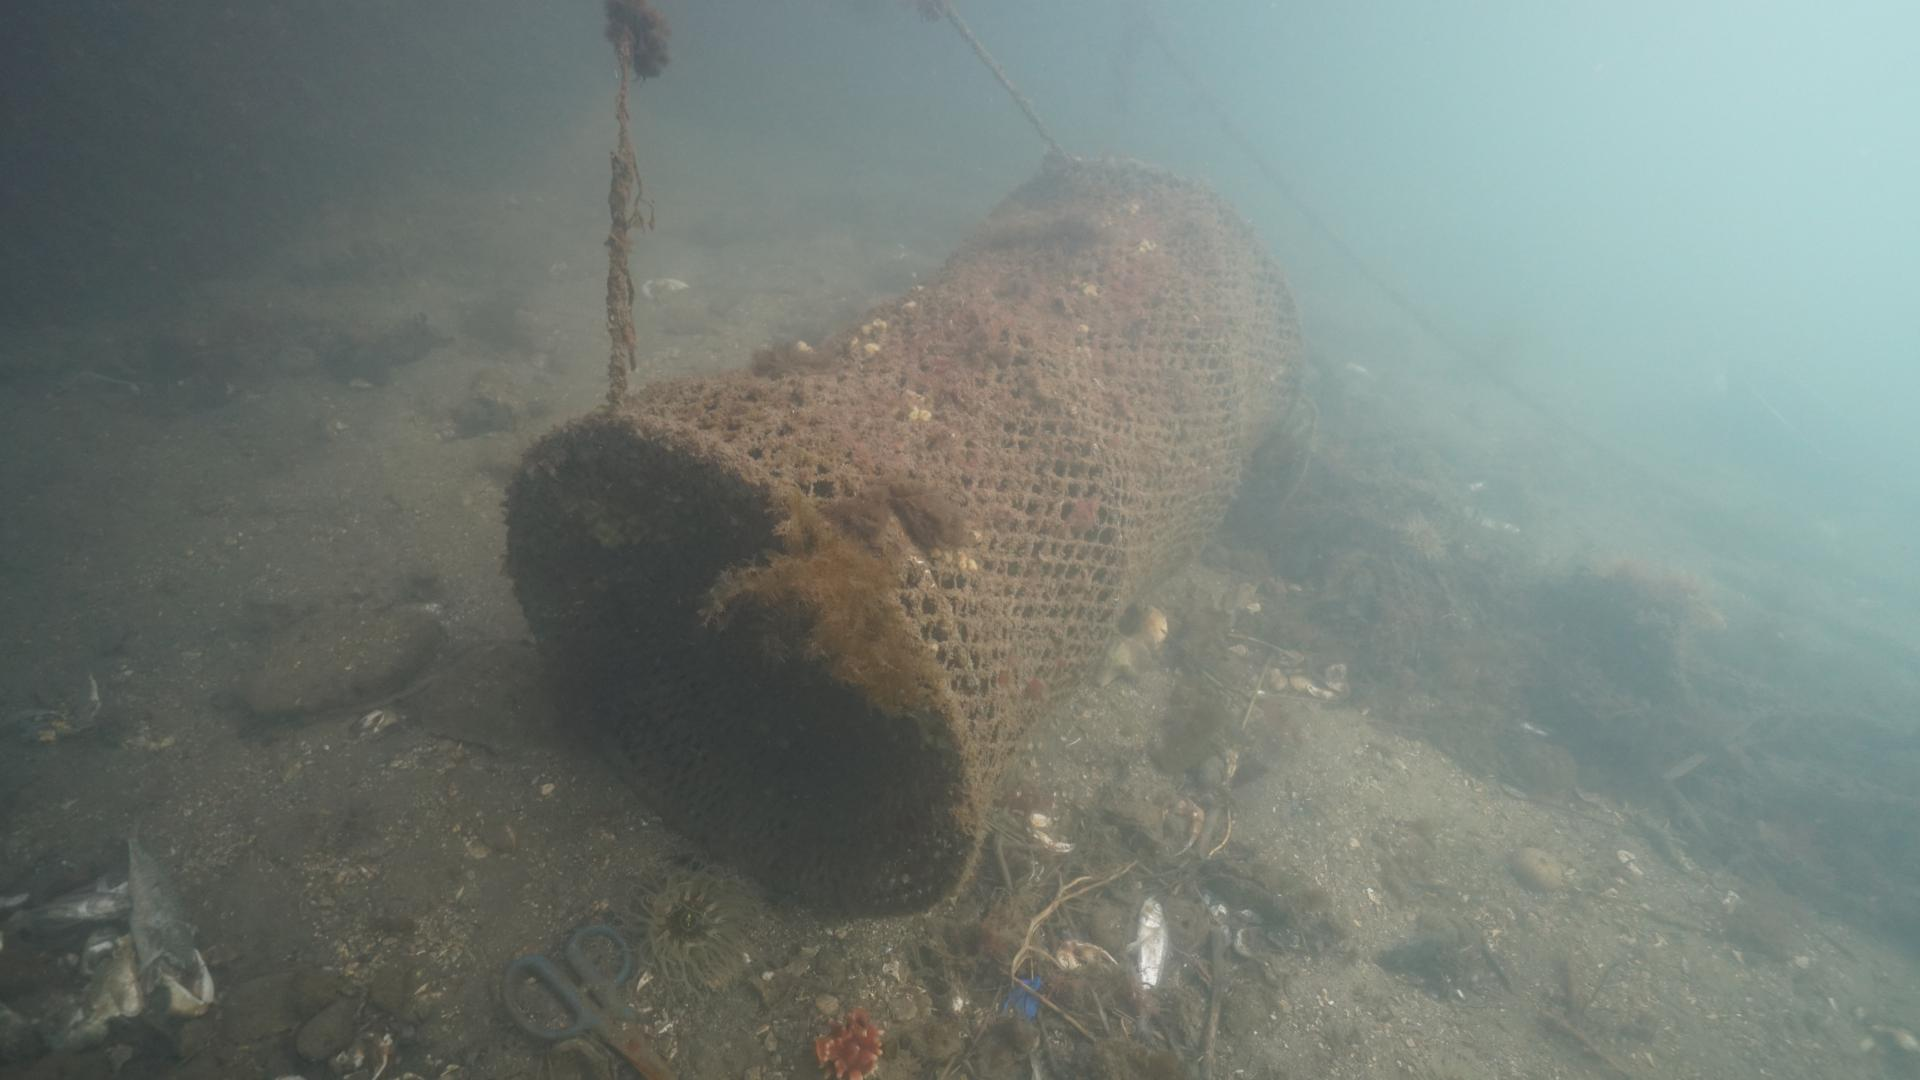rope: (930, 0, 1062, 149), (596, 0, 644, 402)
spring fish trap: (493, 152, 1313, 935)
